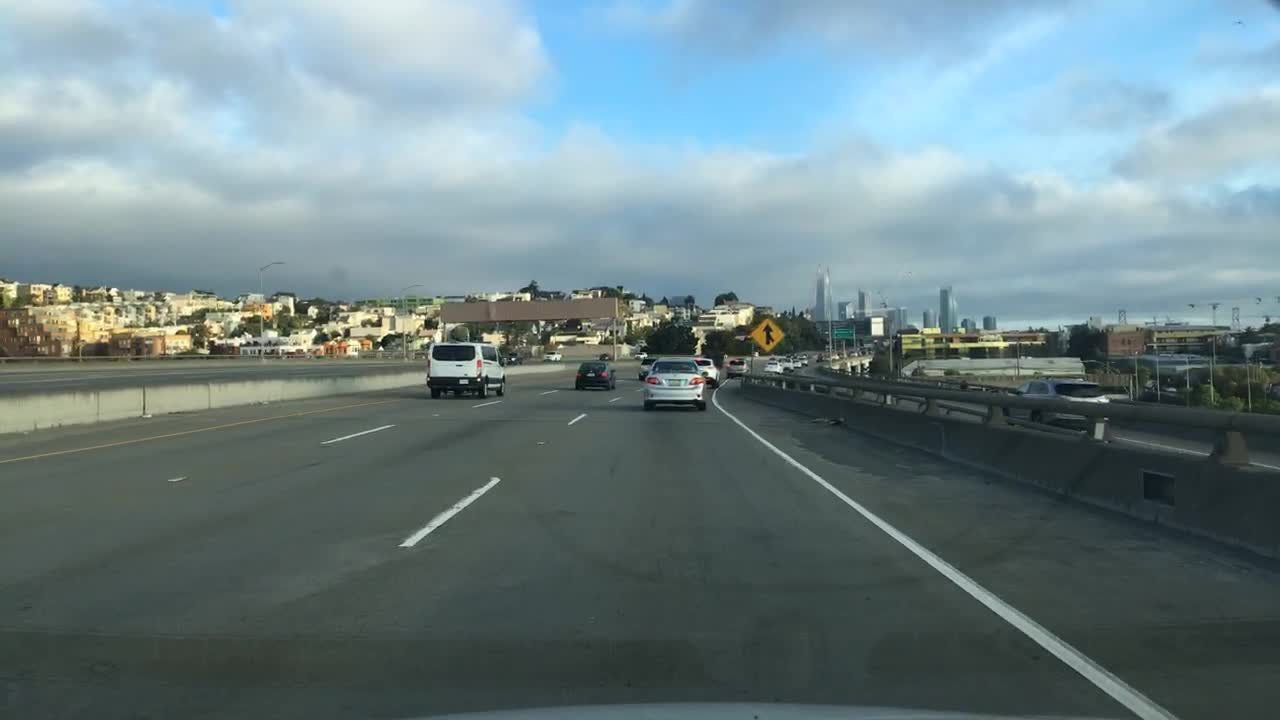car: (1012, 377, 1112, 430), (424, 338, 507, 398), (640, 350, 709, 412), (572, 359, 618, 390), (690, 355, 722, 389), (1103, 382, 1135, 402), (636, 355, 658, 380), (725, 355, 750, 377), (703, 348, 727, 368), (762, 354, 783, 373), (542, 348, 564, 364), (777, 356, 795, 369), (503, 351, 521, 364), (794, 354, 809, 367), (632, 350, 649, 360), (821, 350, 835, 362), (598, 351, 612, 362), (856, 345, 872, 354), (791, 356, 801, 369), (846, 348, 862, 356), (837, 349, 849, 358)
traffic sign: (750, 317, 786, 353), (868, 316, 885, 337), (831, 325, 855, 338), (257, 302, 272, 316)
